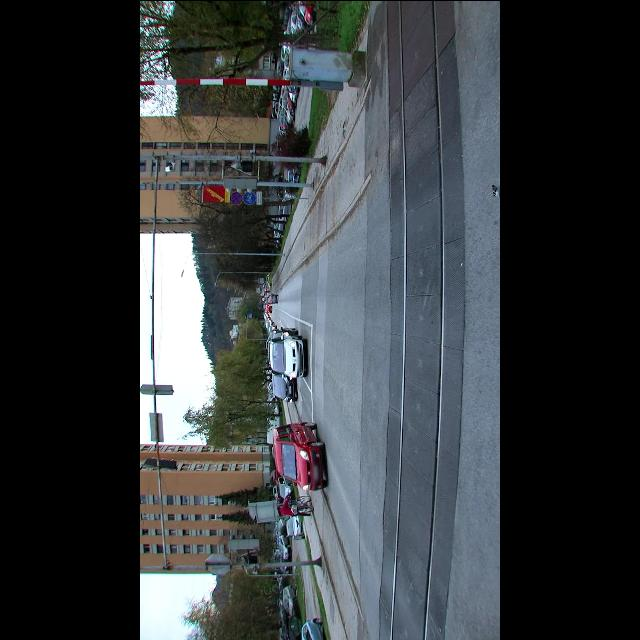Rectangle: (257, 190, 263, 203)
Round: (229, 190, 243, 203), (242, 190, 256, 202)
